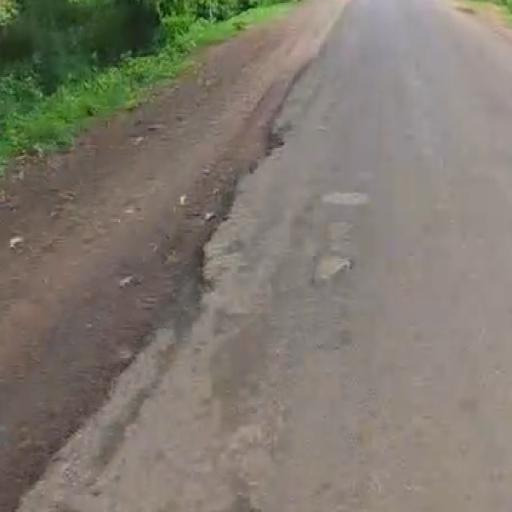edge_damage: (81, 78, 367, 402)
